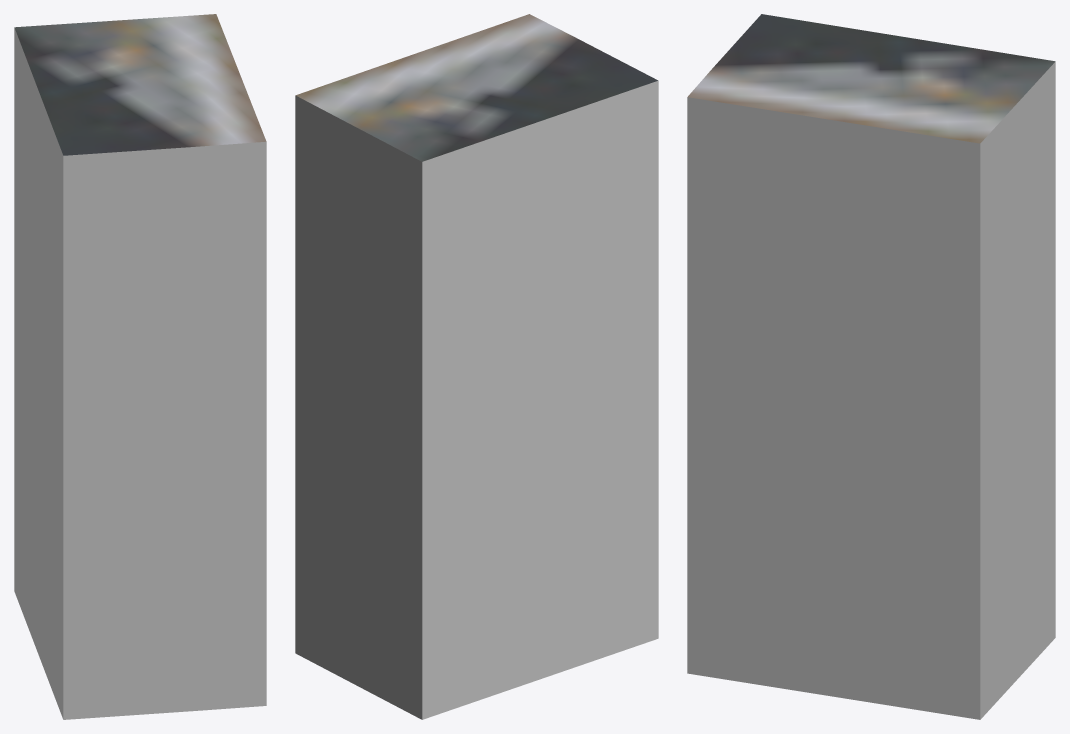
Rendered from DEBW_0010007Txfv.gltf.
3 views of the same model, side by side, from view 1: azimuth 30°, elevation 25°; view 2: azimuth 150°, elevation 25°; view 3: azimuth 270°, elevation 25° (orthographic). The views are drawn at different scales.
Parts seen in each view (by area): view 1: Z_UP; view 2: Z_UP; view 3: Z_UP.
Boxes of the visible parts, x1,y1,x2,y2 form: Z_UP: [14, 14, 266, 719]; Z_UP: [295, 14, 658, 719]; Z_UP: [687, 14, 1055, 719].
Bounding box in the file's own units: 2.93 × 6.07 × 3.52.
2 materials, 1 textured.
